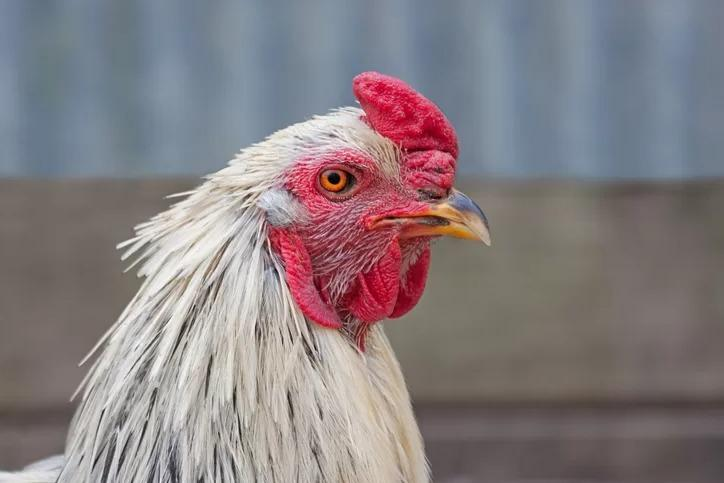AbNormal: (351, 66, 462, 185)
